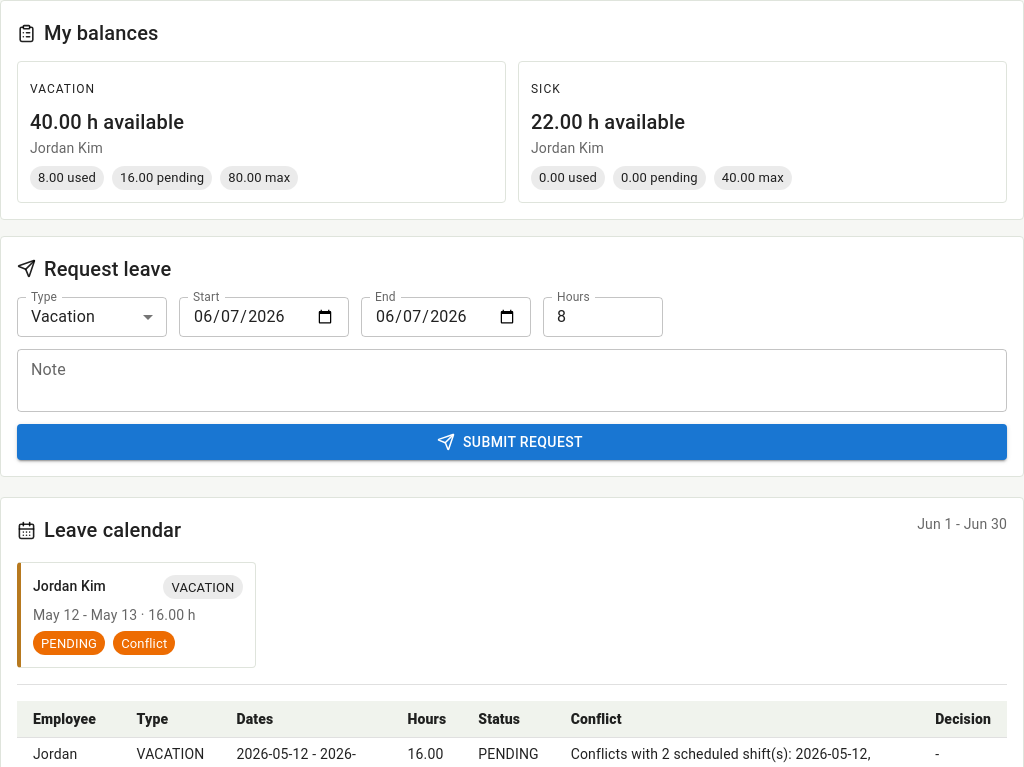
Test: LeavePanel › displays balance errors from the API clearly
This screenshot has width=1024, height=767.
What coordinates should you click on to do the following:
click the button "Submit request"
I would click on:
 (512, 442)
Its box is [17, 424, 1007, 460].
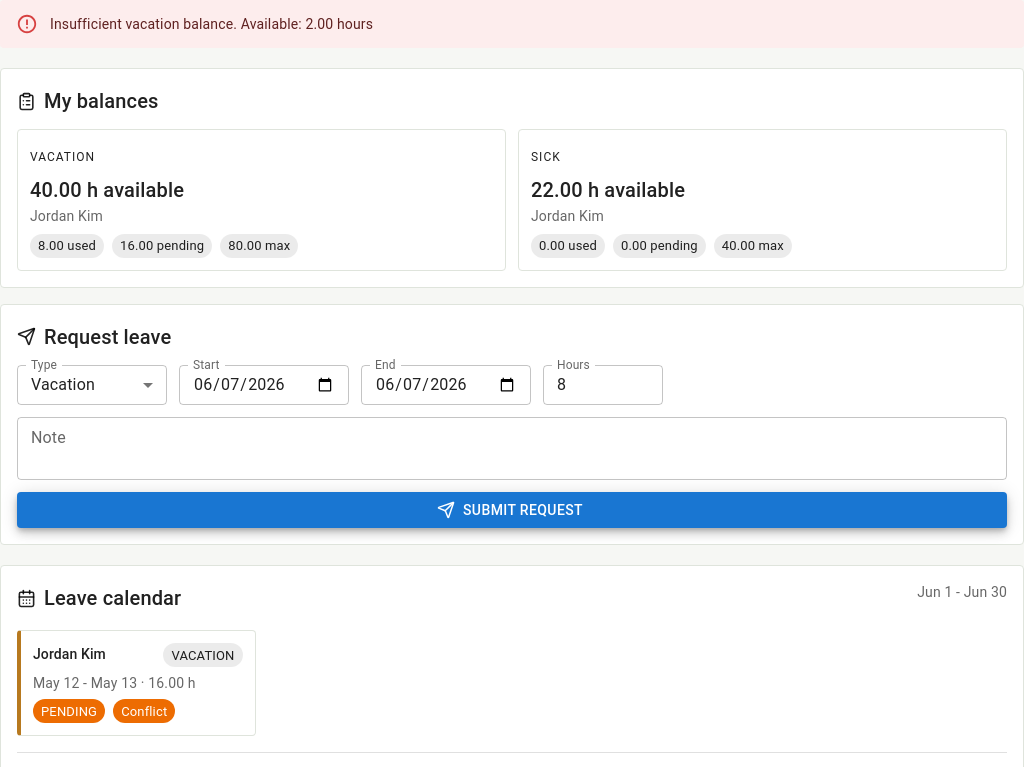
Result: the text "Insufficient vacation balance. Available: 2.00 hours" is shown at [50, 16, 373, 32]
